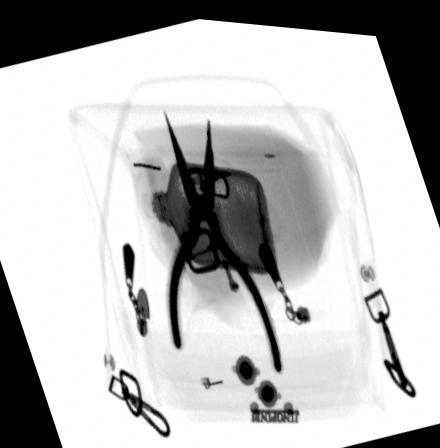Pliers: (162, 104, 285, 369)
